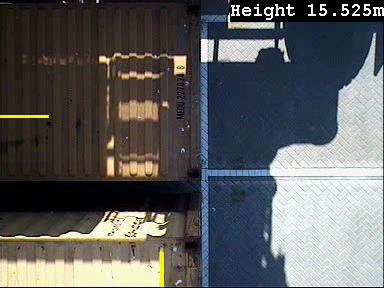groundmarker_2: (153, 21, 225, 73)
